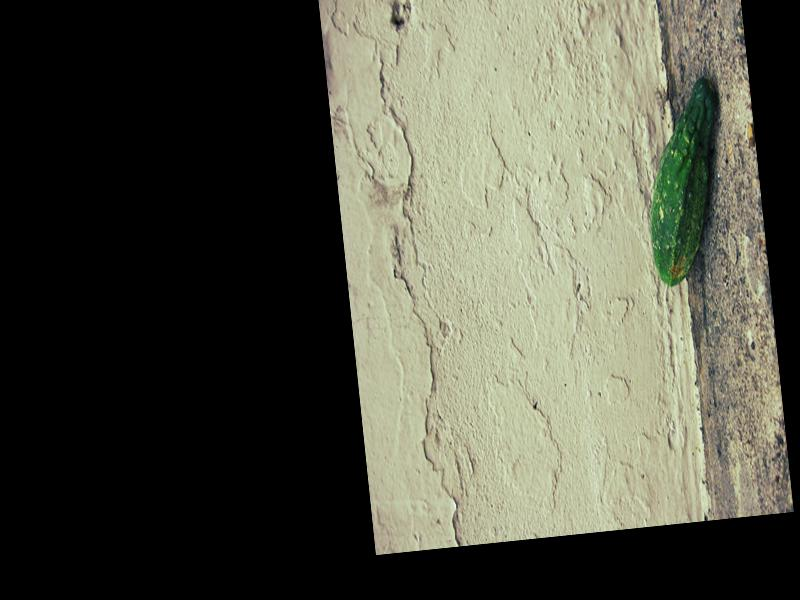Cucumber: (635, 79, 734, 287)
